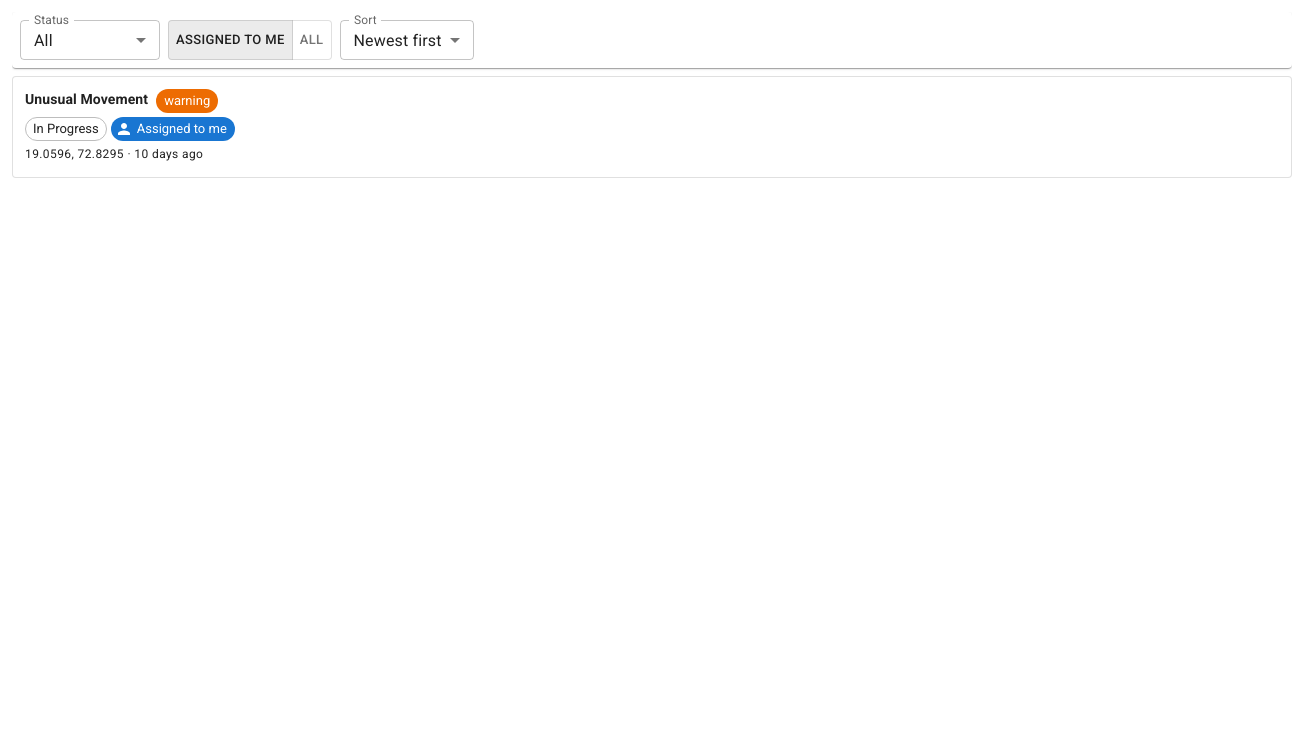
IncidentList › filters incidents by status
Click the button "All" at (312, 40), box [292,20,332,60]
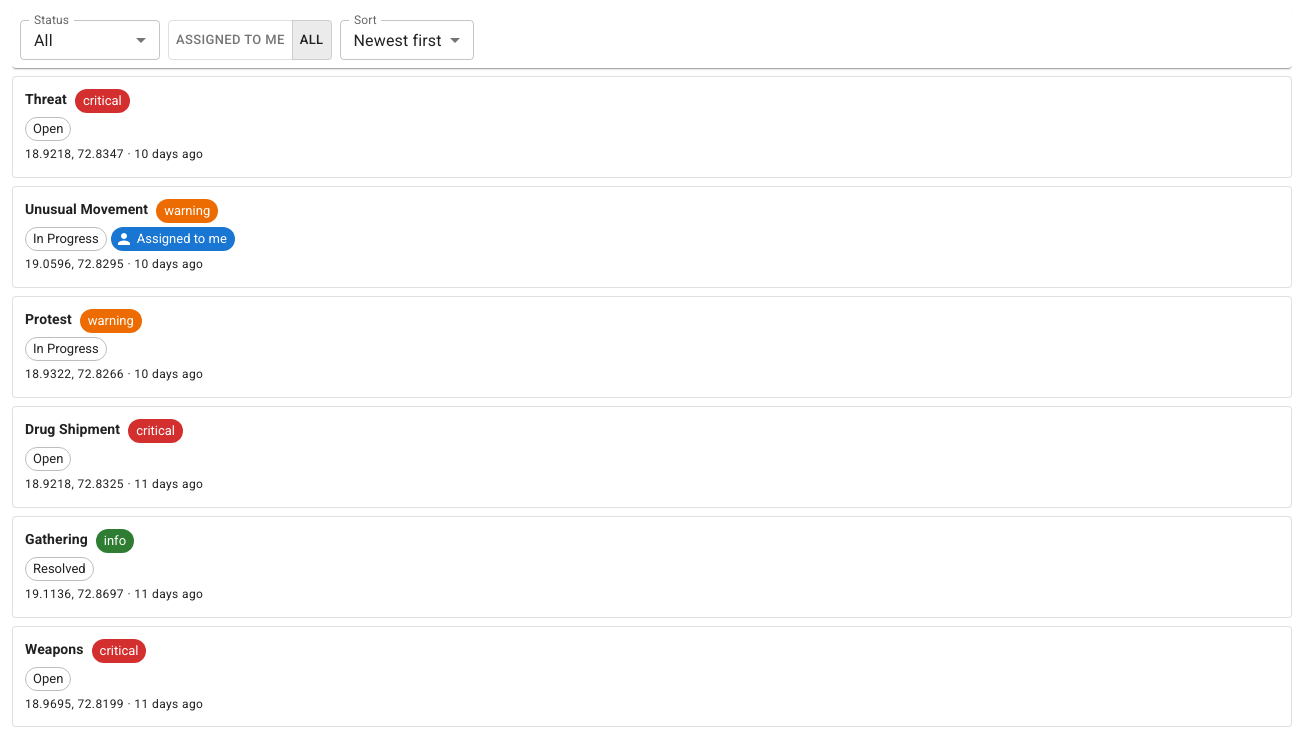
Press the mouse on the dropdown named "Status" at (43, 40), box [34,30,53,50]
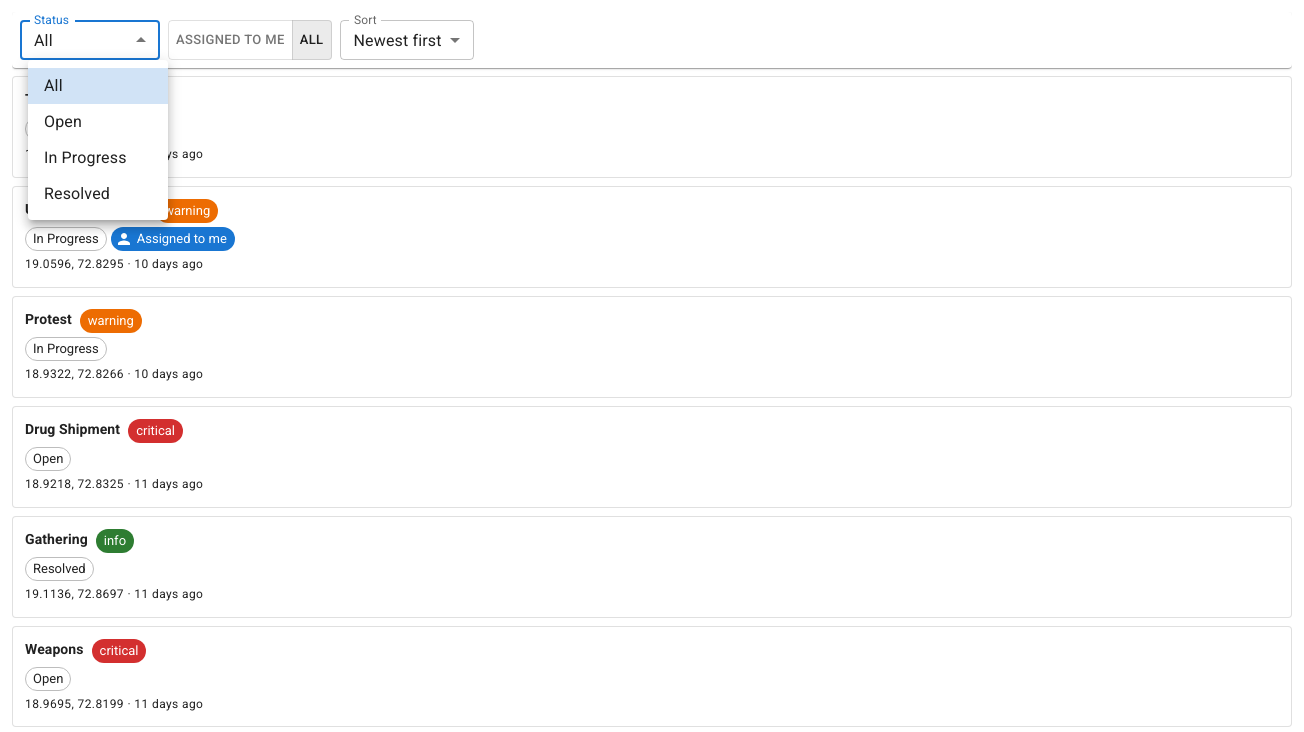
Click the option "Resolved" at (77, 194), box [44,184,110,203]
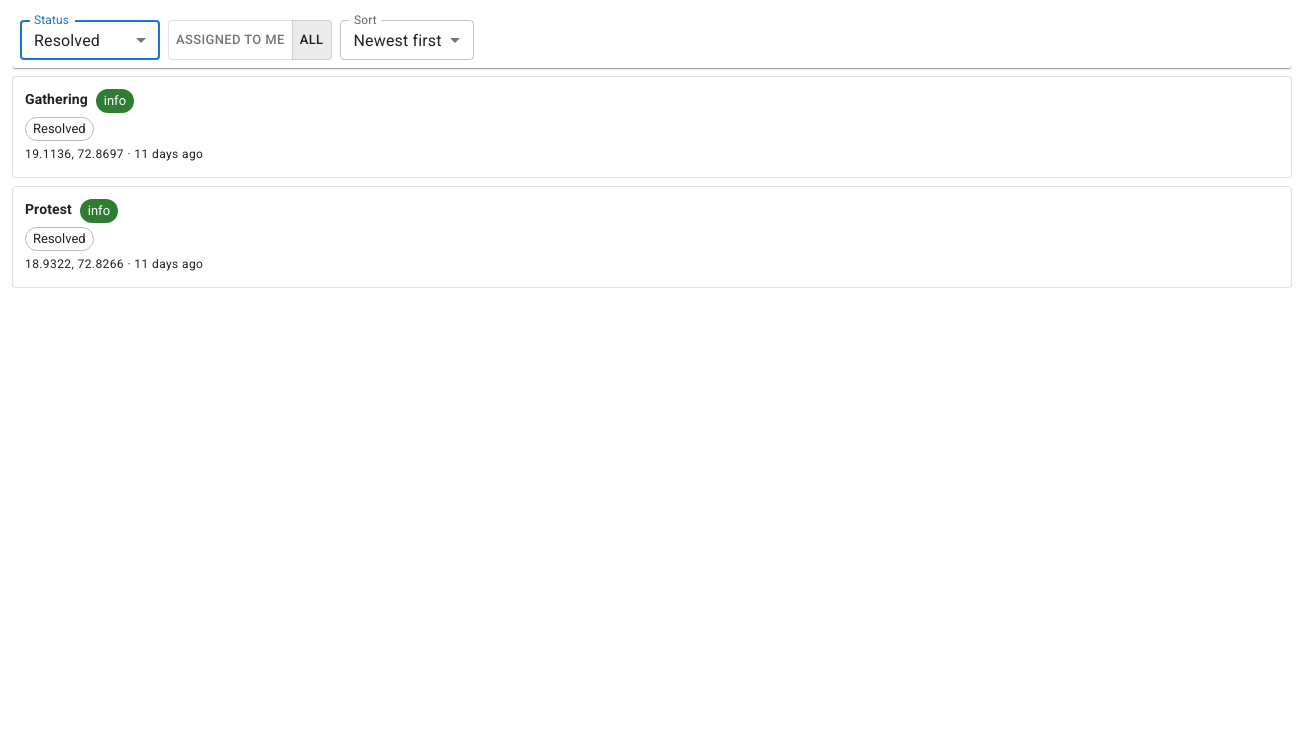
Result: the heading "Gathering" is shown at [25,89,88,113]
Result: the button "Threat" is gone
Result: the button "Unusual Movement" is gone
